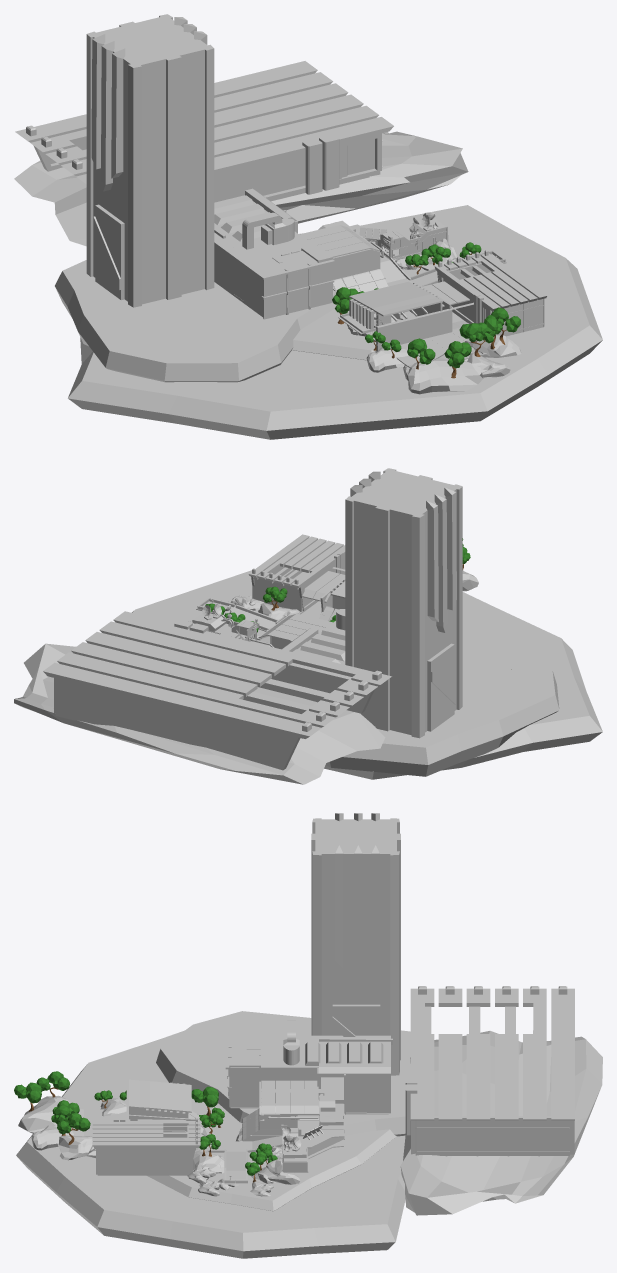
Rendered from SpaceStation.fbx.
3 renders of one model, top to bottom at view 1: azimuth 30°, elevation 25°; view 2: azimuth 150°, elevation 25°; view 3: azimuth 270°, elevation 25°, orthographic. The views are drawn at different scales.
Visible parts, largest first — view 1: Cube.062, Cube.060, Cube.010, Cube.089, Decor_Building1, Cube.001, Buildong roof 1, Cube.027, Cube.026, Cube.212, Cube.264, WallHidden.001 (+7 smaller); view 2: Cube.010, Cube.060, Cube.089, Cube.062, Cube.001, Cube.027, Decor_Building1, Buildong roof 1, Building roof 2, Decor_Building1.001, Decor_Building1.007; view 3: Cube.062, Cube.010, Cube.060, Decor_Building1, Cube.001, Cube.089, Cube.026, Buildong roof 1, Cube.027, Building roof 2, Cube.212, Cube.264 (+1 smaller).
Part boxes in pixels (x1,y1,x2,y2): Cube.062: (68, 205, 602, 439); Cube.060: (86, 14, 214, 307); Cube.010: (15, 61, 393, 202); Cube.089: (55, 260, 337, 382); Decor_Building1: (214, 210, 506, 367); Cube.001: (14, 131, 468, 246); Buildong roof 1: (214, 188, 334, 299); Cube.027: (434, 250, 546, 336); Cube.026: (292, 250, 484, 360); Cube.212: (349, 281, 442, 329); Cube.264: (408, 354, 483, 394); WallHidden.001: (376, 302, 473, 351); Cube.010: (43, 611, 391, 770); Cube.060: (345, 468, 462, 738); Cube.089: (325, 641, 559, 776); Cube.062: (132, 570, 602, 779); Cube.001: (14, 643, 385, 784); Cube.027: (248, 534, 345, 611); Decor_Building1: (188, 595, 337, 649); Buildong roof 1: (282, 609, 345, 664); Building roof 2: (260, 613, 332, 640); Decor_Building1.001: (302, 571, 345, 602); Decor_Building1.007: (209, 612, 256, 639); Cube.062: (16, 1030, 405, 1258); Cube.010: (405, 986, 574, 1156); Cube.060: (311, 813, 400, 1075); Decor_Building1: (71, 1046, 390, 1196); Cube.001: (400, 1031, 602, 1215); Cube.089: (156, 1011, 410, 1136); Cube.026: (147, 1098, 396, 1211); Buildong roof 1: (225, 1020, 392, 1089); Cube.027: (92, 1118, 200, 1175); Building roof 2: (261, 1080, 318, 1113); Cube.212: (129, 1079, 191, 1115); Cube.264: (18, 1095, 70, 1133).
Bounding box in the file's own units: 776 × 393 × 721.
